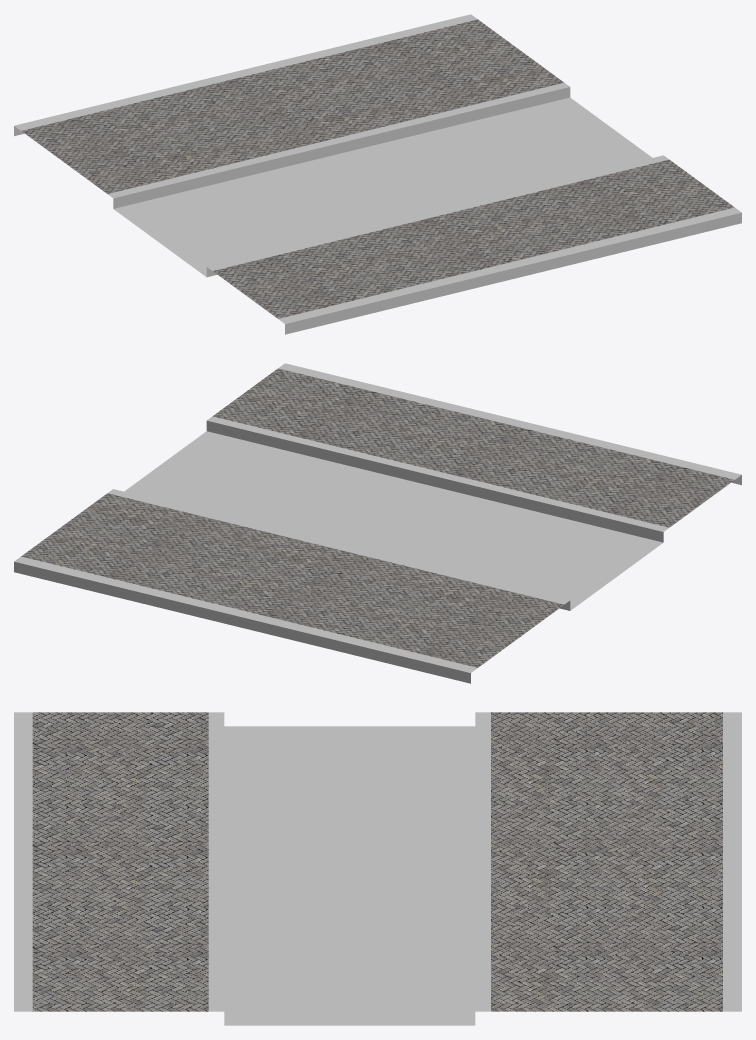
File: Road Patch.fbx
The picture shows the model from 3 angles, top to bottom: view 1: azimuth 30°, elevation 25°; view 2: azimuth 150°, elevation 25°; view 3: azimuth 270°, elevation 25°; orthographic projection. The views are drawn at different scales.
Parts seen in each view (by area): view 1: Mesh; view 2: Mesh; view 3: Mesh.
Part boxes in pixels (x1,y1,x2,y2): Mesh: (14,14,741,334); Mesh: (14,363,741,683); Mesh: (14,712,741,1025).
Bounding box in the file's own units: 1130 × 25 × 1161.
